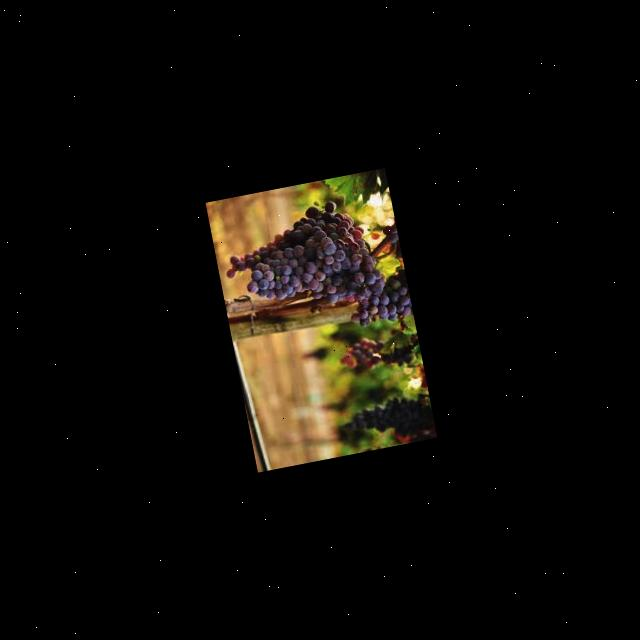grape: (216, 190, 413, 351)
